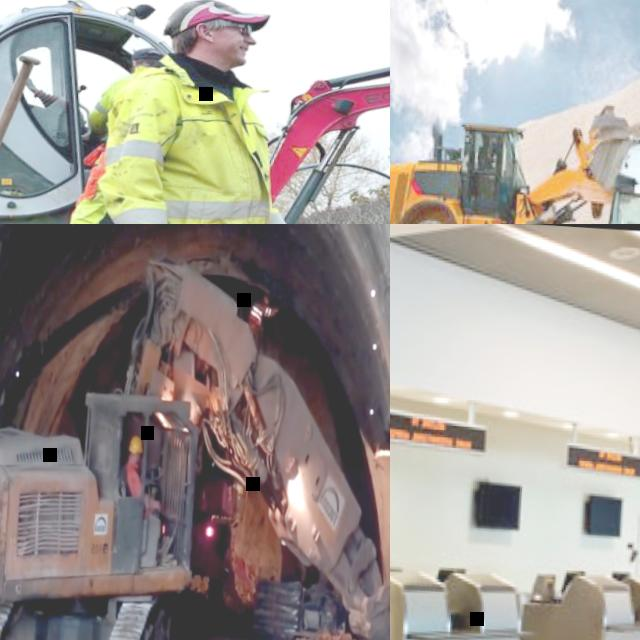Hardhat: (127, 436, 141, 453)
NO-Hardhat: (175, 0, 254, 32), (131, 47, 164, 62)
NO-Mask: (199, 35, 255, 67), (134, 455, 138, 462)
Person: (77, 0, 333, 224), (83, 40, 174, 143), (42, 128, 117, 224), (117, 433, 167, 553)
Safety Vest: (95, 61, 288, 224), (72, 117, 275, 224), (99, 66, 176, 139), (120, 458, 142, 498)
vehicle: (0, 238, 390, 640), (0, 0, 390, 224), (390, 82, 640, 224)
